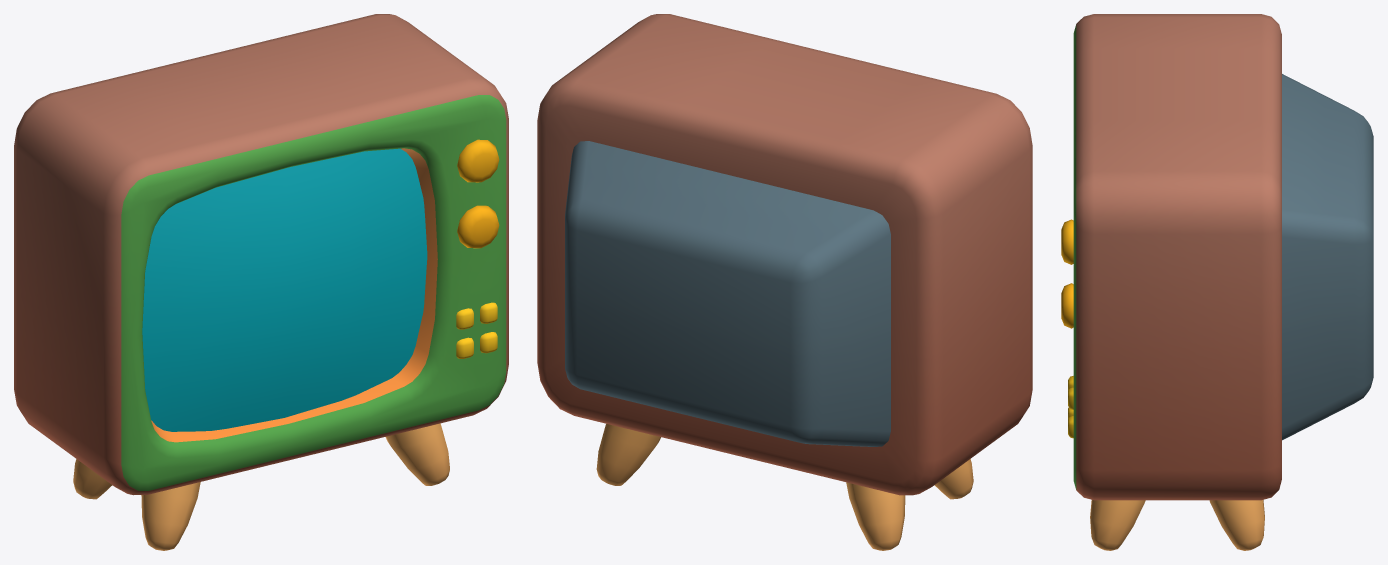
3 renders of one model, left to right at view 1: azimuth 30°, elevation 25°; view 2: azimuth 150°, elevation 25°; view 3: azimuth 270°, elevation 25°, orthographic. The views are drawn at different scales.
Parts seen in each view (by area): view 1: TV_06; view 2: TV_06; view 3: TV_06.
Part boxes in pixels (x1,y1,x2,y2): TV_06: (14,14,508,550); TV_06: (537,14,1032,550); TV_06: (1061,14,1373,550).
Size of the model in its own units: 0.5494 by 0.5273 by 0.3813.
Materials: 1 (1 with a texture image).
